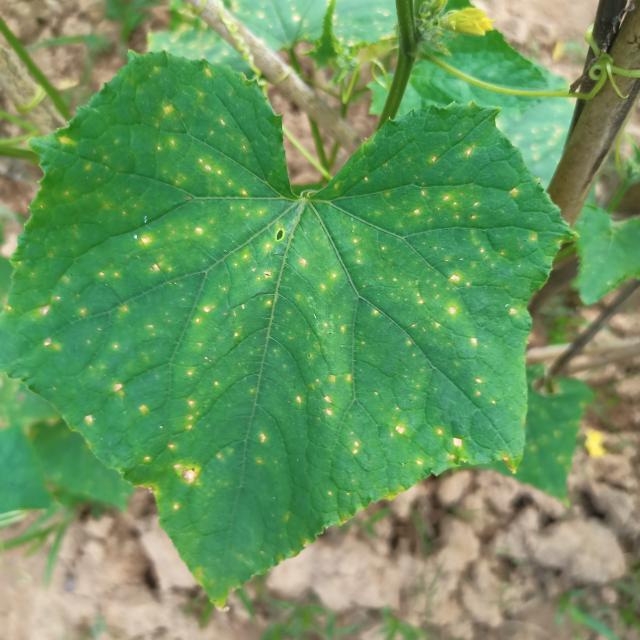disease_cucumber: (45, 78, 540, 531)
